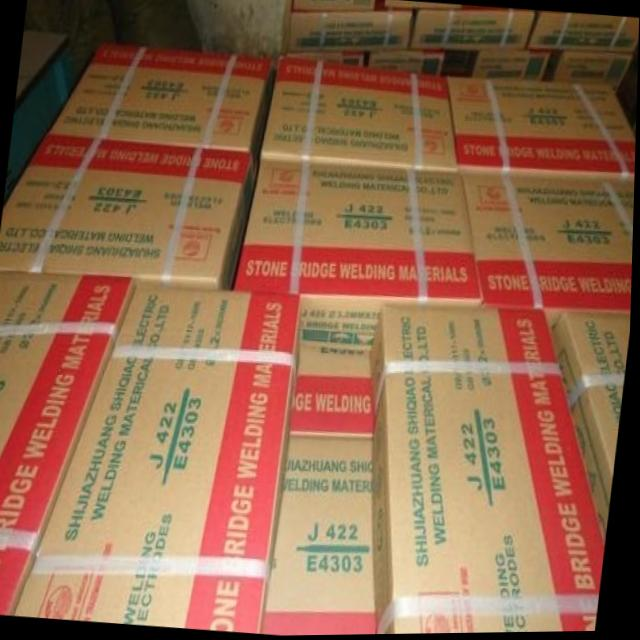box: (15, 281, 302, 633), (371, 306, 608, 635), (231, 160, 483, 355), (0, 273, 137, 615), (0, 133, 257, 290), (458, 172, 636, 332), (48, 42, 275, 164), (258, 54, 458, 172), (265, 437, 379, 636), (449, 78, 637, 183), (553, 312, 632, 547), (292, 350, 377, 439), (288, 0, 413, 50), (410, 8, 533, 53), (527, 12, 639, 54), (545, 50, 634, 90), (467, 48, 551, 81), (368, 49, 444, 75), (284, 51, 366, 64), (291, 0, 376, 12), (385, 0, 462, 11)
